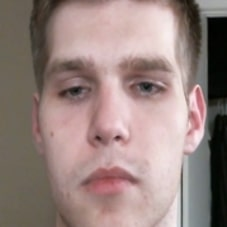drowsy: (44, 54, 181, 199)
